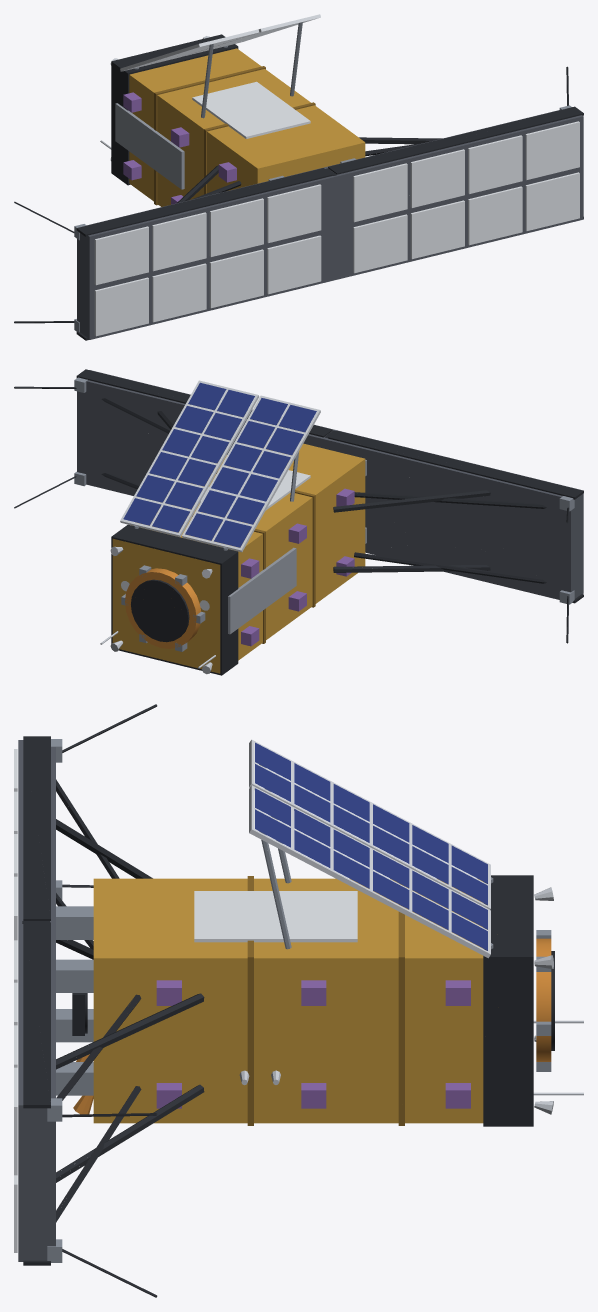
Rendered from rcm.glb.
The picture shows the model from 3 angles, top to bottom: view 1: azimuth 30°, elevation 25°; view 2: azimuth 150°, elevation 25°; view 3: azimuth 270°, elevation 25°; orthographic projection. The views are drawn at different scales.
Visible parts, largest first — view 1: body, foil, solar-panel; view 2: body, solar-panel, foil; view 3: foil, body, solar-panel.
Part boxes in pixels (x1=…): body: x1=14, y1=14, x2=583, y2=340; foil: x1=129, y1=48, x2=365, y2=206; solar-panel: x1=115, y1=22, x2=302, y2=189; body: x1=14, y1=369, x2=583, y2=675; solar-panel: x1=123, y1=382, x2=316, y2=634; foil: x1=112, y1=436, x2=365, y2=673; foil: x1=93, y1=878, x2=483, y2=1123; body: x1=14, y1=704, x2=583, y2=1297; solar-panel: x1=255, y1=742, x2=493, y2=950.
Size of the model in its own units: 7.72 by 2.71 by 4.54.
